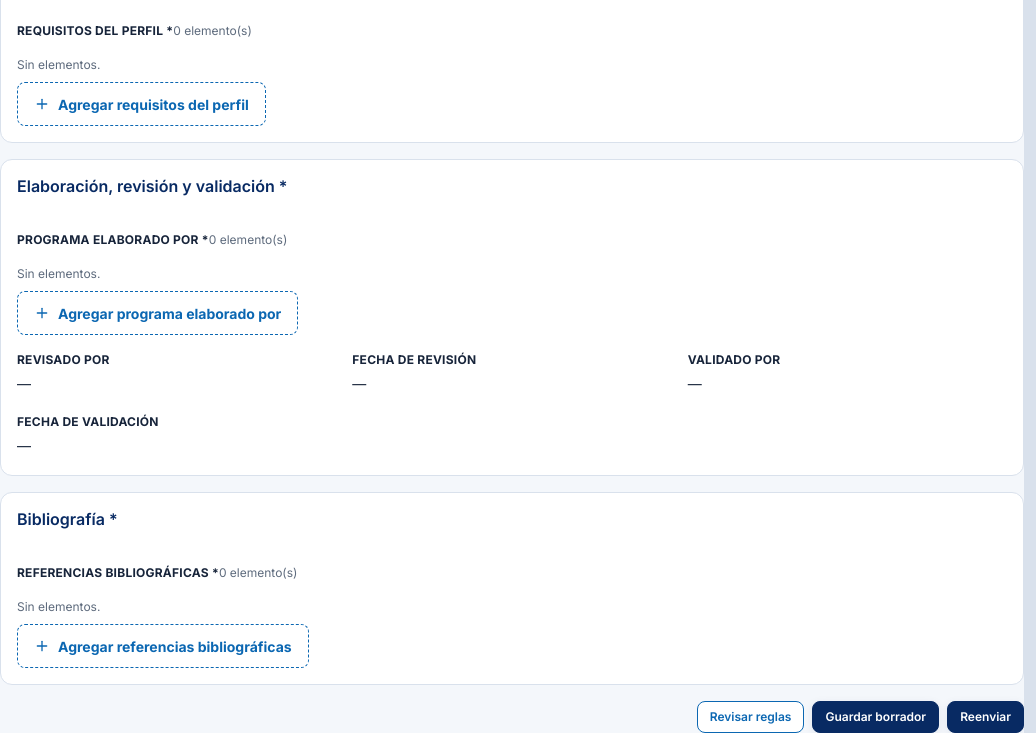
Test: muestra campos pendientes cuando el reenvío responde 422
The width and height of the screenshot is (1036, 733).
(page scrolled)
What coordinates should you click on to do the following:
click the button "Reenviar"
I would click on:
 (986, 717)
Its box is [947, 701, 1024, 732].
(page scrolled)
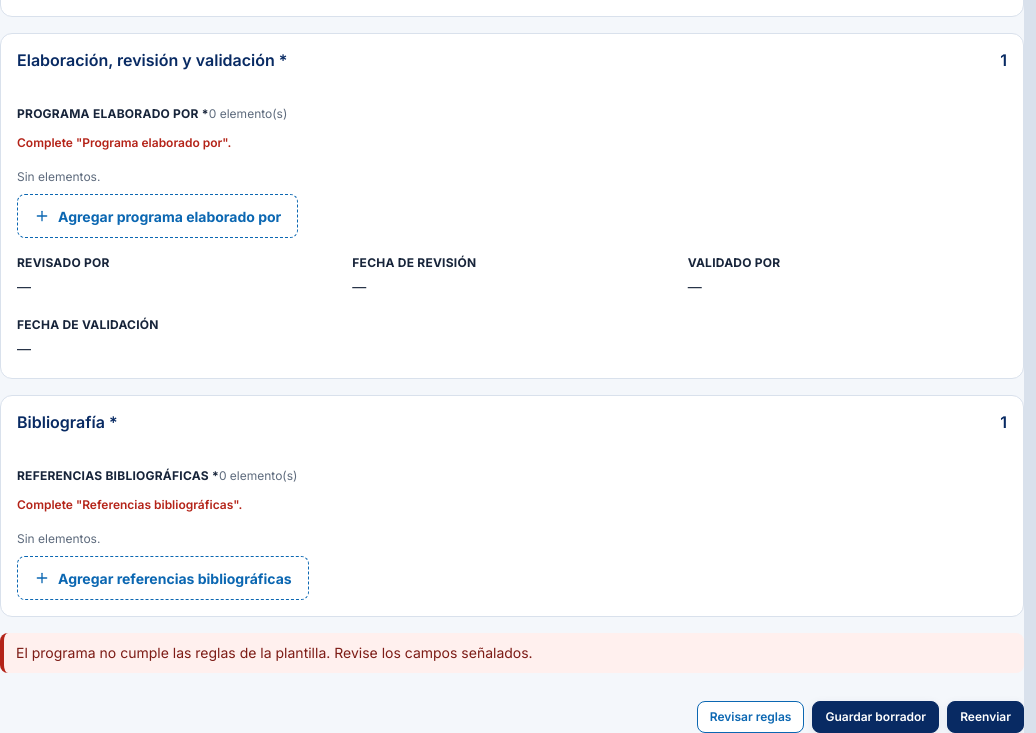
Expected: the text "El programa no cumple las reglas de la plantilla. Revise los campos señalados." is shown, [0, 633, 1024, 673]
